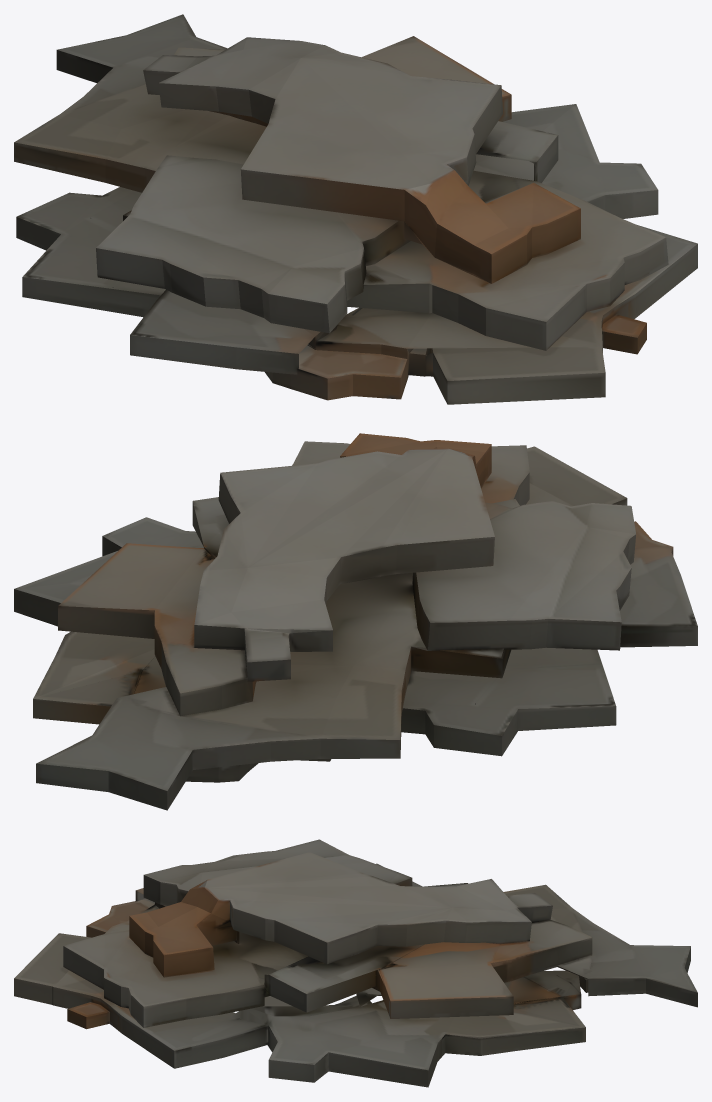
Rendered from entulho.fbx.
3 views of the same model, one above another, from view 1: azimuth 30°, elevation 25°; view 2: azimuth 150°, elevation 25°; view 3: azimuth 270°, elevation 25° (orthographic). The views are drawn at different scales.
Parts seen in each view (by area): view 1: mesh_input; view 2: mesh_input; view 3: mesh_input.
Part boxes in pixels (<box>): mesh_input: <box>14,14,697,404</box>; mesh_input: <box>14,433,697,810</box>; mesh_input: <box>14,839,697,1087</box>.
Size of the model in its own units: 138 by 28.94 by 190.
Materials: 1 (1 with a texture image).
